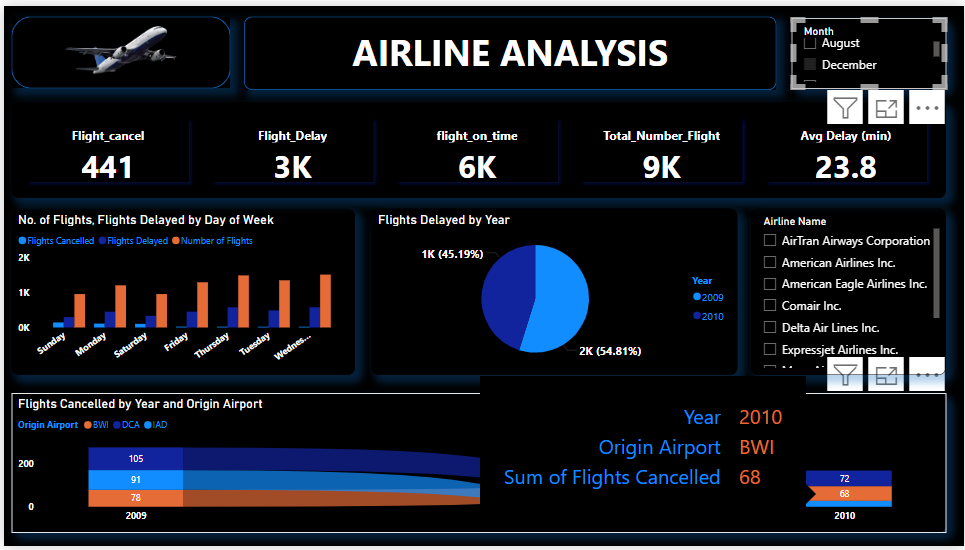

This screenshot's page, from the dashboard's own definition file:
{"tool":"powerbi","page":{"name":"Page 1","canvas":[1280,720],"ordinal":0},"visuals":[{"type":"shape","box":[320,14,710,98],"z":0},{"type":"textbox","box":[320,22,710,79],"z":1000},{"type":"shape","box":[10,14,292,96],"z":2000},{"type":"slicer","fields":{"Values":["Sheet1.Month"]},"box":[1050,16,206,94],"z":4000},{"type":"clusteredColumnChart","title":"No. of Flights,  Flights Delayed by Day of Week","fields":{"Category":["Sheet1.Day of Week"],"Y":["Sum(Sheet1.Flights Cancelled)","Sum(Sheet1.Flights Delayed)","Sum(Sheet1.Number of Flights)"]},"box":[10,270,458,222],"z":5000},{"type":"ribbonChart","title":"Flights Cancelled by Year and Origin Airport","fields":{"Y":["Sum(Sheet1.Flights Cancelled)"],"Series":["Sheet1.Origin Airport"],"Category":["Sheet1.Year"]},"box":[10,516,1246,186],"z":5001},{"type":"cardVisual","fields":{"Data":["Sheet1.Flight_cancel","Sheet1.Flight_Delay","Sheet1.flight_on_time","Sheet1.Total_Number_Flight","Avg(Sheet1.Avg Delay (min))"]},"box":[10,128,1246,128],"z":5002},{"type":"pieChart","title":"Flights Delayed by Year","fields":{"Category":["Sheet1.Year"],"Y":["Sum(Sheet1.Flights Delayed)"]},"box":[490,270,488,222],"z":5004},{"type":"slicer","fields":{"Values":["Sheet1.Airline Name"]},"box":[996,270,260,222],"z":5005},{"type":"image","box":[0,0,320,112],"z":5006}]}

Visuals, with their boxes in screenshot pixels (x1, y1, x2, y2), scaled from the page's 1280x720 canvas onto the 965x550 screenshot:
shape: bbox=(241, 11, 777, 86)
textbox: bbox=(241, 17, 777, 77)
shape: bbox=(8, 11, 228, 84)
slicer - Sheet1.Month: bbox=(792, 12, 947, 84)
"No. of Flights,  Flights Delayed by Day of Week" clusteredColumnChart: bbox=(8, 206, 353, 376)
"Flights Cancelled by Year and Origin Airport" ribbonChart: bbox=(8, 394, 947, 536)
cardVisual - Sheet1.Flight_cancel x Sheet1.Flight_Delay: bbox=(8, 98, 947, 196)
"Flights Delayed by Year" pieChart: bbox=(369, 206, 737, 376)
slicer - Sheet1.Airline Name: bbox=(751, 206, 947, 376)
image: bbox=(0, 0, 241, 86)
